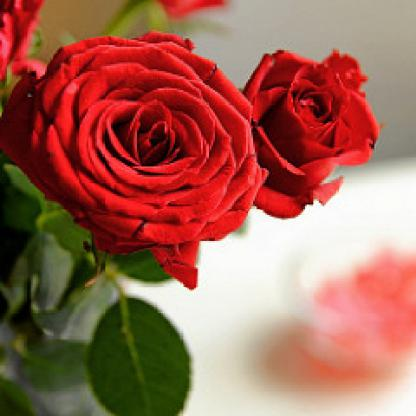ROSE-MAWAR: (3, 10, 396, 304)
